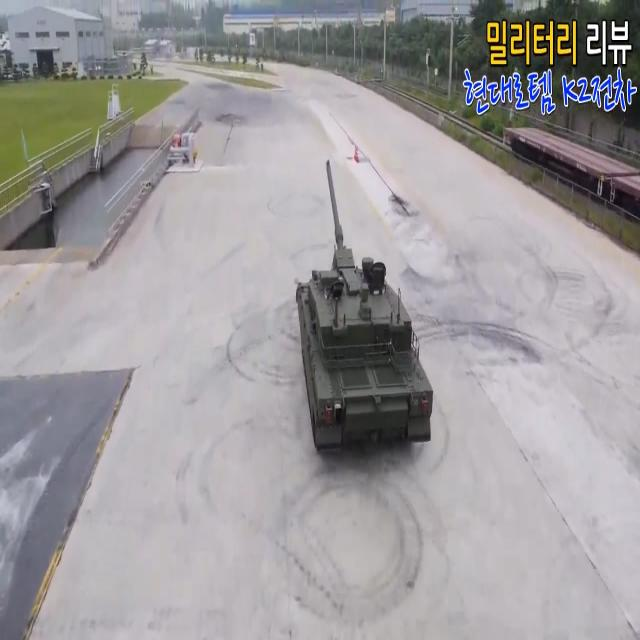korea tank: (295, 154, 433, 458)
